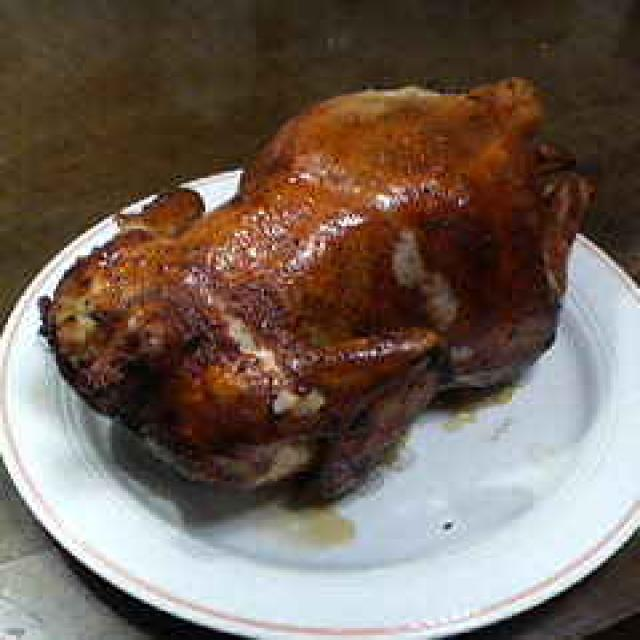Chicken roast: (43, 75, 585, 481)
